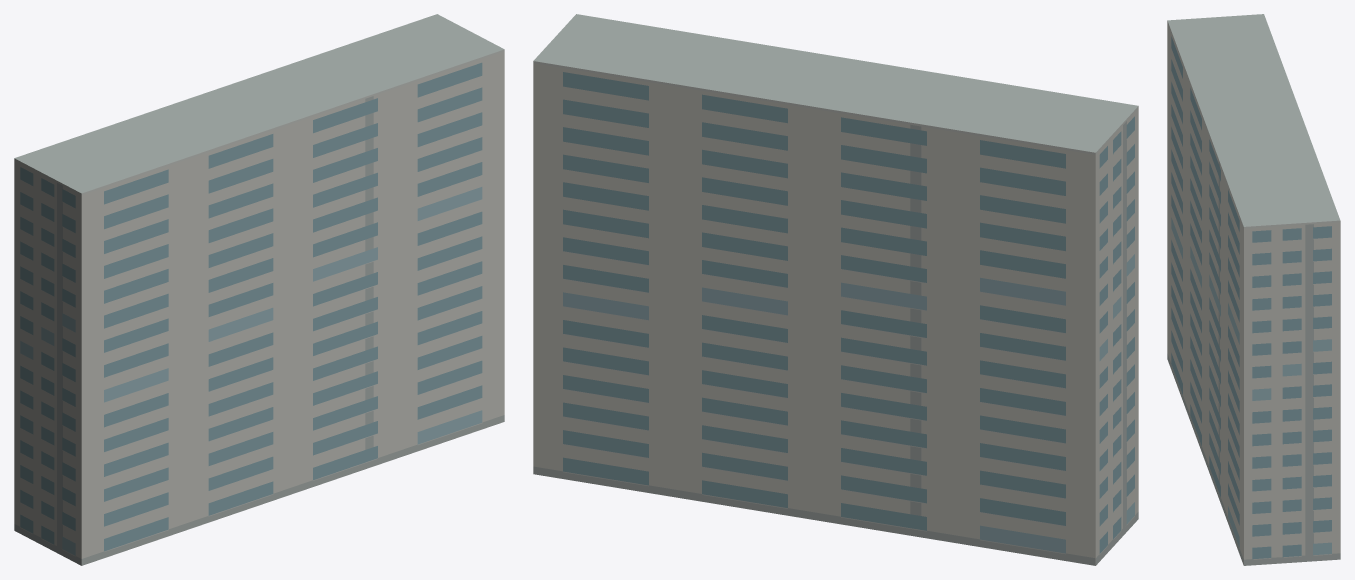
File: residential-b60a8408-c568-424f-84d7-3b64a6c9b8be.glb
The picture shows the model from 3 angles, left to right: view 1: azimuth 30°, elevation 25°; view 2: azimuth 150°, elevation 25°; view 3: azimuth 270°, elevation 25°; orthographic projection. The views are drawn at different scales.
Visible parts, largest first — view 1: residential-b60a8408-c568-424f-84d7-3b64a6c9b8be.tmp; view 2: residential-b60a8408-c568-424f-84d7-3b64a6c9b8be.tmp; view 3: residential-b60a8408-c568-424f-84d7-3b64a6c9b8be.tmp.
Part boxes in pixels (x1,y1,x2,y2): residential-b60a8408-c568-424f-84d7-3b64a6c9b8be.tmp: (14, 14, 504, 565); residential-b60a8408-c568-424f-84d7-3b64a6c9b8be.tmp: (533, 14, 1138, 565); residential-b60a8408-c568-424f-84d7-3b64a6c9b8be.tmp: (1167, 14, 1340, 565).
Bounding box in the file's own units: 61.64 × 45.75 × 21.17.
